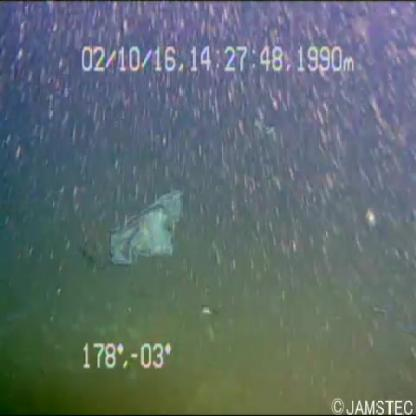Rác: (94, 186, 190, 279), (248, 110, 282, 157)
